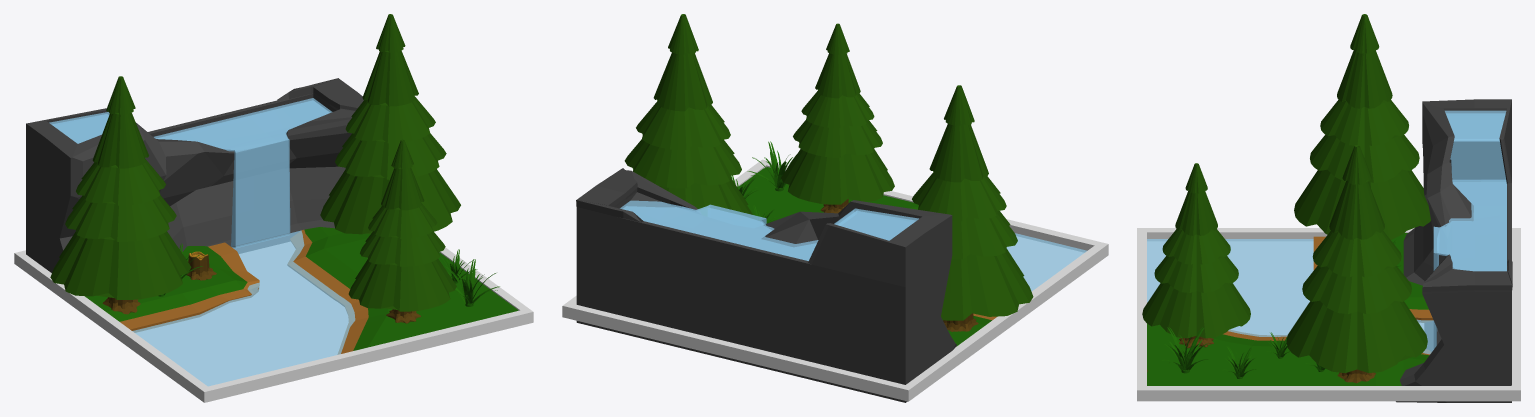
File: Animal Habitat Otter Base.fbx
3 renders of one model, left to right at view 1: azimuth 30°, elevation 25°; view 2: azimuth 150°, elevation 25°; view 3: azimuth 270°, elevation 25°, orthographic. The views are drawn at different scales.
Visible parts, largest first — view 1: Cube, Cube.003, Cylinder.002, Plane, Cylinder.005, Cylinder.001, Cube.004, Cube.002, Cube.001, Plane.001, Cube.005, Cylinder; view 2: Cube.003, Cylinder.002, Cube, Cylinder.005, Cylinder.001, Cube.004, Cube.002, Plane, Cube.005, Plane.001; view 3: Cube.003, Cube, Cylinder.005, Cylinder.002, Cylinder.001, Cube.002, Plane, Cube.004, Cube.005, Plane.001, Cube.001.
Part boxes in pixels (left/top/right/bottom): Cube: left=14, top=242, right=533, bottom=402; Cube.003: left=26, top=78, right=363, bottom=272; Cylinder.002: left=50, top=76, right=191, bottom=314; Plane: left=132, top=230, right=355, bottom=386; Cylinder.005: left=320, top=14, right=460, bottom=234; Cylinder.001: left=348, top=139, right=456, bottom=323; Cube.004: left=154, top=98, right=332, bottom=247; Cube.002: left=287, top=227, right=518, bottom=354; Cube.001: left=84, top=242, right=259, bottom=332; Plane.001: left=158, top=243, right=499, bottom=306; Cube.005: left=49, top=112, right=109, bottom=143; Cylinder: left=186, top=251, right=216, bottom=280; Cube.003: left=576, top=168, right=956, bottom=402; Cylinder.002: left=912, top=85, right=1033, bottom=331; Cube: left=562, top=159, right=1108, bottom=401; Cylinder.005: left=624, top=14, right=752, bottom=214; Cylinder.001: left=781, top=23, right=894, bottom=213; Cube.004: left=620, top=200, right=818, bottom=260; Cube.002: left=739, top=167, right=918, bottom=223; Plane: left=1006, top=233, right=1087, bottom=291; Cube.005: left=834, top=208, right=918, bottom=240; Plane.001: left=730, top=141, right=796, bottom=223; Cube.003: left=1396, top=99, right=1512, bottom=402; Cube: left=1137, top=228, right=1520, bottom=401; Cylinder.005: left=1286, top=145, right=1427, bottom=383; Cylinder.002: left=1294, top=14, right=1430, bottom=239; Cylinder.001: left=1142, top=163, right=1250, bottom=348; Cube.002: left=1147, top=302, right=1431, bottom=385; Plane: left=1147, top=239, right=1435, bottom=354; Cube.004: left=1433, top=179, right=1506, bottom=348; Cube.005: left=1445, top=110, right=1506, bottom=180; Plane.001: left=1162, top=240, right=1403, bottom=378; Cube.001: left=1313, top=233, right=1433, bottom=322.
Size of the model in its own units: 7080 by 4271 by 6000.
